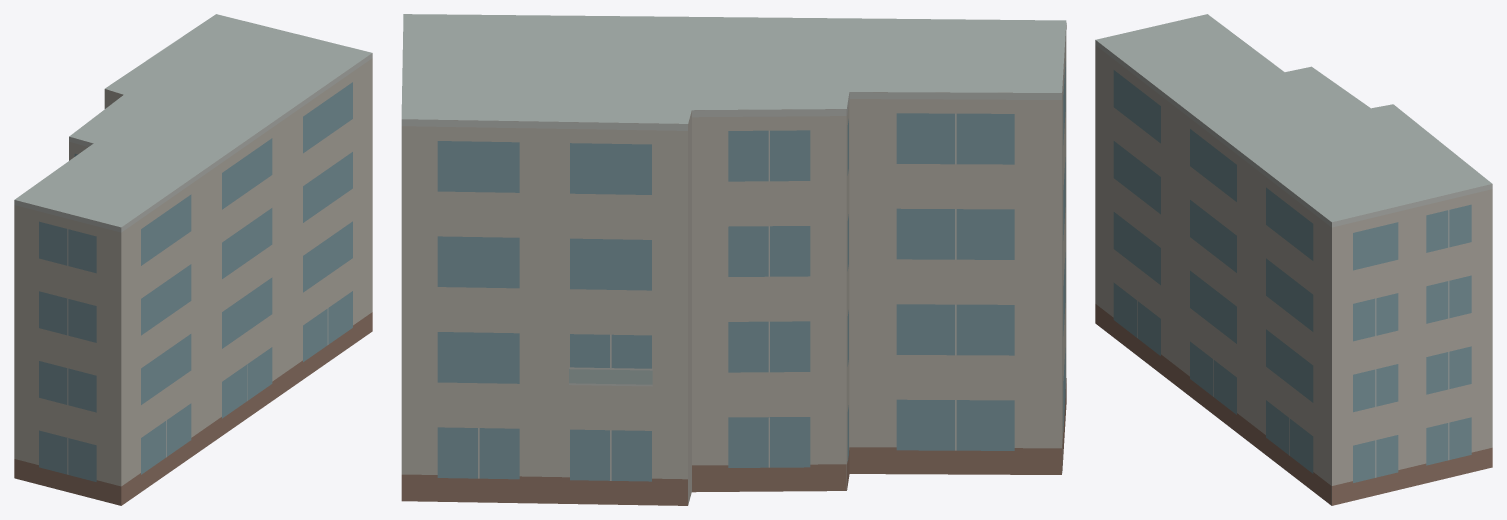
Rendered from survey-upis-32503278.glb.
3 renders of one model, left to right at view 1: azimuth 30°, elevation 25°; view 2: azimuth 150°, elevation 25°; view 3: azimuth 270°, elevation 25°, orthographic. The views are drawn at different scales.
Parts seen in each view (by area): view 1: survey-upis-32503278.tmp; view 2: survey-upis-32503278.tmp; view 3: survey-upis-32503278.tmp.
Part boxes in pixels (box(x1,y1,x2,y2)): survey-upis-32503278.tmp: box(14, 14, 372, 505); survey-upis-32503278.tmp: box(401, 14, 1066, 505); survey-upis-32503278.tmp: box(1095, 14, 1492, 505).
Size of the model in its own units: 20.77 by 13.18 by 16.74.
